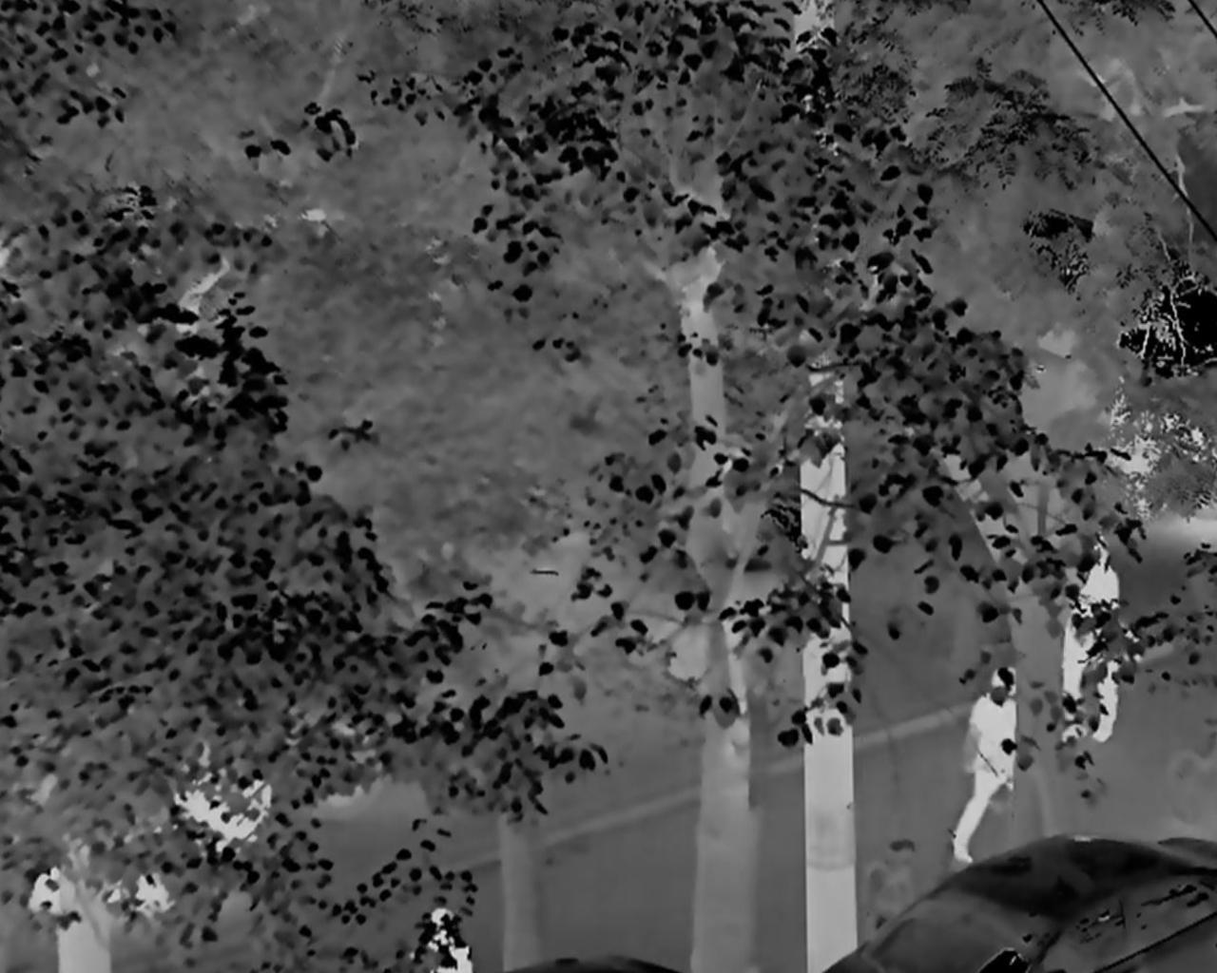person: (1054, 532, 1128, 755), (952, 668, 1032, 866)
